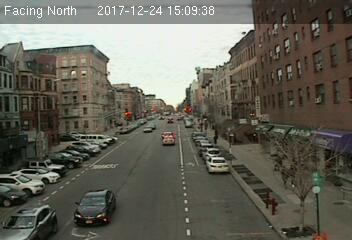car: (1, 203, 60, 240), (72, 187, 117, 227), (206, 155, 230, 173), (162, 135, 176, 145)
